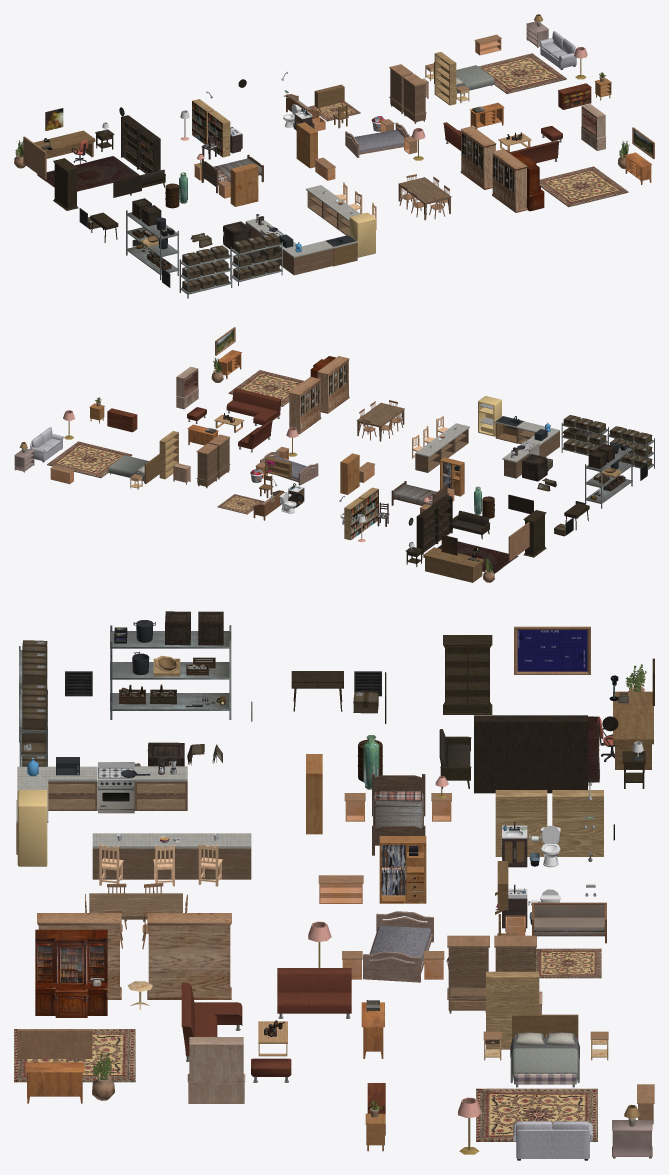
The model's file is furniture.glb.
3 views of the same model, one above another, from view 1: azimuth 30°, elevation 25°; view 2: azimuth 150°, elevation 25°; view 3: azimuth 270°, elevation 25° (orthographic). The views are drawn at different scales.
Parts seen in each view (by area): view 1: Plane.001, Plane.002, Fitment.001-col, Fitment-col, carpet_mp_1.001, Cube.081-col, C.029-col, Bed.002-col, Wardrobe_01.001-col, display_cabinet_mp_2_4.001, Librero.005-col, Cube.195-col (+30 smaller); view 2: Plane.002, Fitment-col, Desk, Fitment.001-col, Plane.001, C.029-col, Bed_09.001-col, Cube.081-col, bed.001-col, Armchair_13.001-col, Cube.014-col, Fitment_02.002-col (+32 smaller); view 3: Fitment-col, Bookcase_01-col, Plane.002, shelf_mp_5_2.002, C.029-col, shelf_mp_5_2.001, Bed_09.001-col, Bed.002-col, Paintings_03.001, Fitment_02.002-col, display_cabinet_mp_2_4.001, Armchair_13.002-col (+36 smaller).
Boxes of the visible parts, bbox=[...] form: Plane.001: bbox=[539, 166, 628, 207]; Plane.002: bbox=[478, 53, 566, 93]; Fitment.001-col: bbox=[492, 149, 527, 212]; Fitment-col: bbox=[460, 126, 496, 189]; carpet_mp_1.001: bbox=[37, 156, 139, 191]; Cube.081-col: bbox=[275, 241, 332, 275]; C.029-col: bbox=[126, 210, 179, 280]; Bed.002-col: bbox=[345, 122, 409, 157]; Wardrobe_01.001-col: bbox=[230, 163, 258, 206]; display_cabinet_mp_2_4.001: bbox=[53, 158, 78, 210]; Librero.005-col: bbox=[434, 52, 456, 105]; Cube.195-col: bbox=[402, 74, 426, 123]; Plane.002: bbox=[47, 441, 132, 478]; Fitment-col: bbox=[289, 376, 321, 434]; Desk: bbox=[423, 547, 483, 582]; Fitment.001-col: bbox=[317, 356, 349, 413]; Plane.001: bbox=[228, 370, 303, 406]; C.029-col: bbox=[585, 442, 632, 508]; Bed_09.001-col: bbox=[108, 454, 159, 483]; Cube.081-col: bbox=[516, 421, 559, 457]; bed.001-col: bbox=[391, 481, 447, 505]; Armchair_13.001-col: bbox=[226, 388, 268, 416]; Cube.014-col: bbox=[196, 443, 218, 488]; Fitment_02.002-col: bbox=[176, 366, 198, 409]; Fitment-col: bbox=[147, 913, 231, 999]; Bookcase_01-col: bbox=[35, 929, 107, 1017]; Plane.002: bbox=[476, 1088, 597, 1141]; shelf_mp_5_2.002: bbox=[474, 715, 530, 793]; C.029-col: bbox=[110, 625, 231, 719]; shelf_mp_5_2.001: bbox=[531, 715, 587, 793]; Bed_09.001-col: bbox=[510, 1014, 579, 1087]; Bed.002-col: bbox=[363, 911, 433, 982]; Paintings_03.001: bbox=[514, 626, 590, 674]; Fitment_02.002-col: bbox=[187, 1037, 245, 1103]; display_cabinet_mp_2_4.001: bbox=[443, 635, 492, 714]; Armchair_13.002-col: bbox=[277, 968, 351, 1018].
Size of what is drawn, in the model's own units: 32.1 by 3.26 by 18.91.
Materials: 143 (136 with a texture image).
